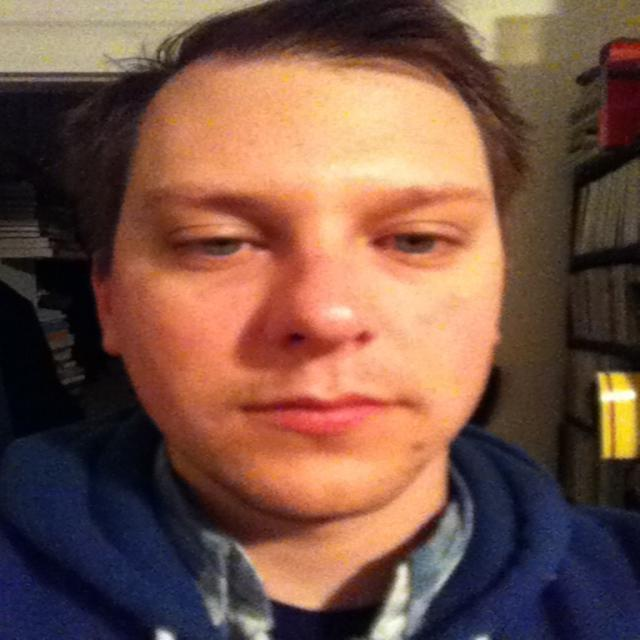closed-mouth: (237, 374, 407, 446)
